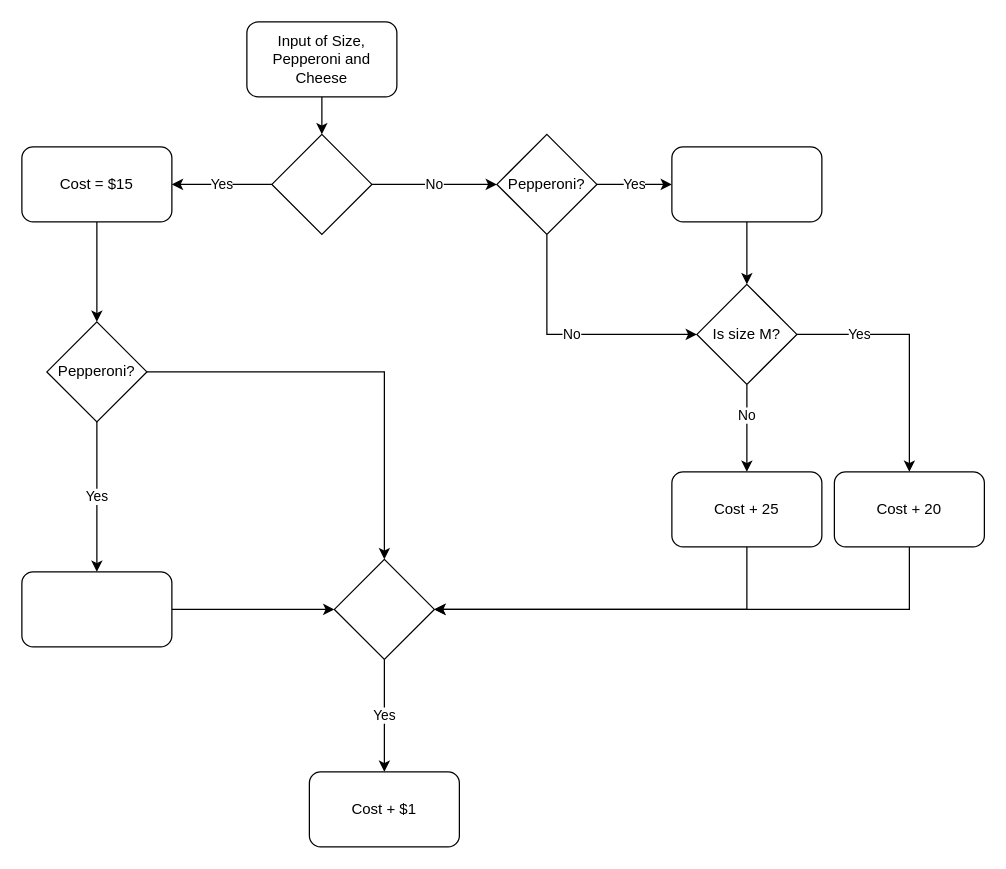
Image size: 1006x869. Some labels were removed from this diagram. Here are the shapes that lost their labels. From the top down, the box of each, then its label:
(271, 133, 372, 234): Is Size S?
(671, 146, 822, 222): Cost = $3
(21, 571, 172, 647): Cost + $2
(333, 558, 434, 659): Cheese?
